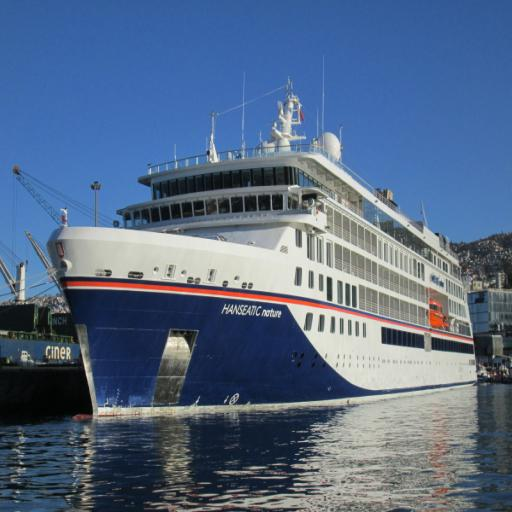cruises: (44, 84, 482, 431)
